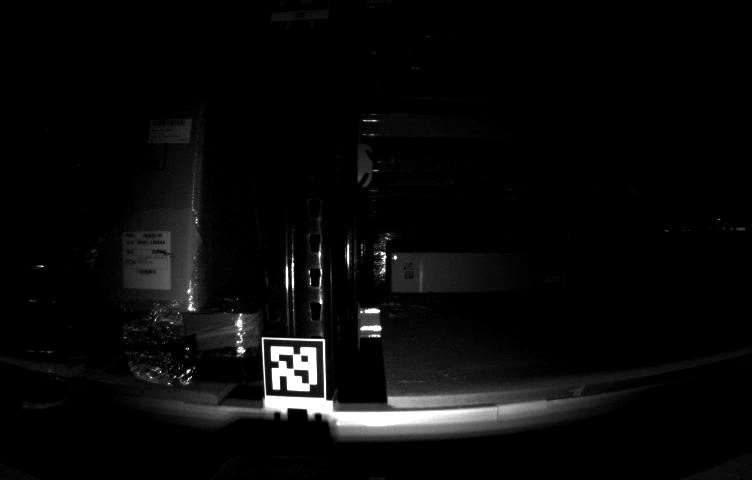True Barcode: (119, 230, 173, 291)
